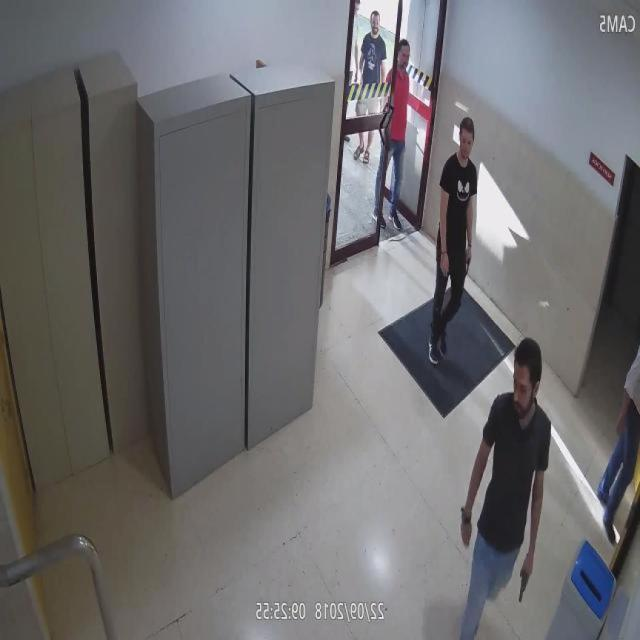pistol: (516, 557, 534, 606), (465, 243, 474, 280)
